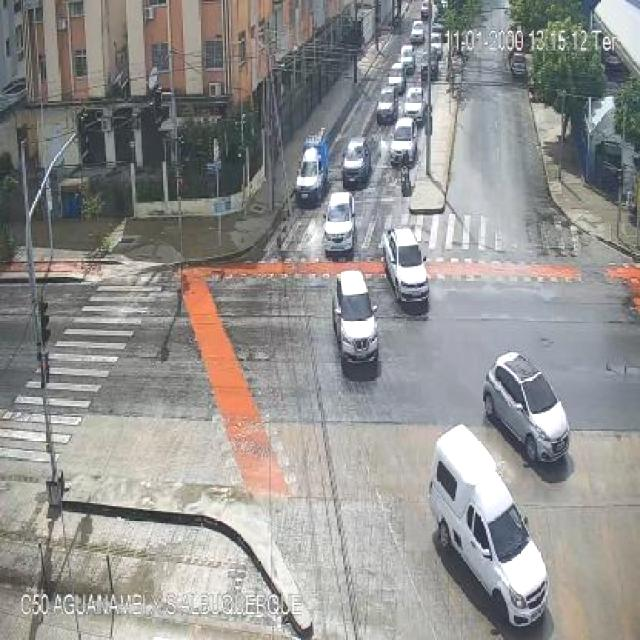Car: (483, 354, 569, 461), (334, 270, 380, 365), (382, 228, 430, 306), (323, 192, 358, 258), (341, 137, 371, 187), (390, 118, 419, 164), (377, 87, 399, 124), (403, 88, 425, 122), (510, 52, 528, 79), (399, 46, 415, 76), (410, 21, 425, 44)
Truck: (423, 422, 551, 630), (292, 128, 332, 204)
